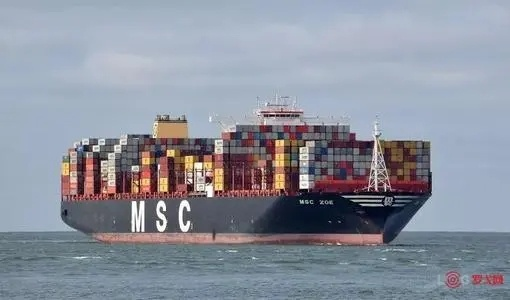Cargoship: (56, 93, 444, 244)
